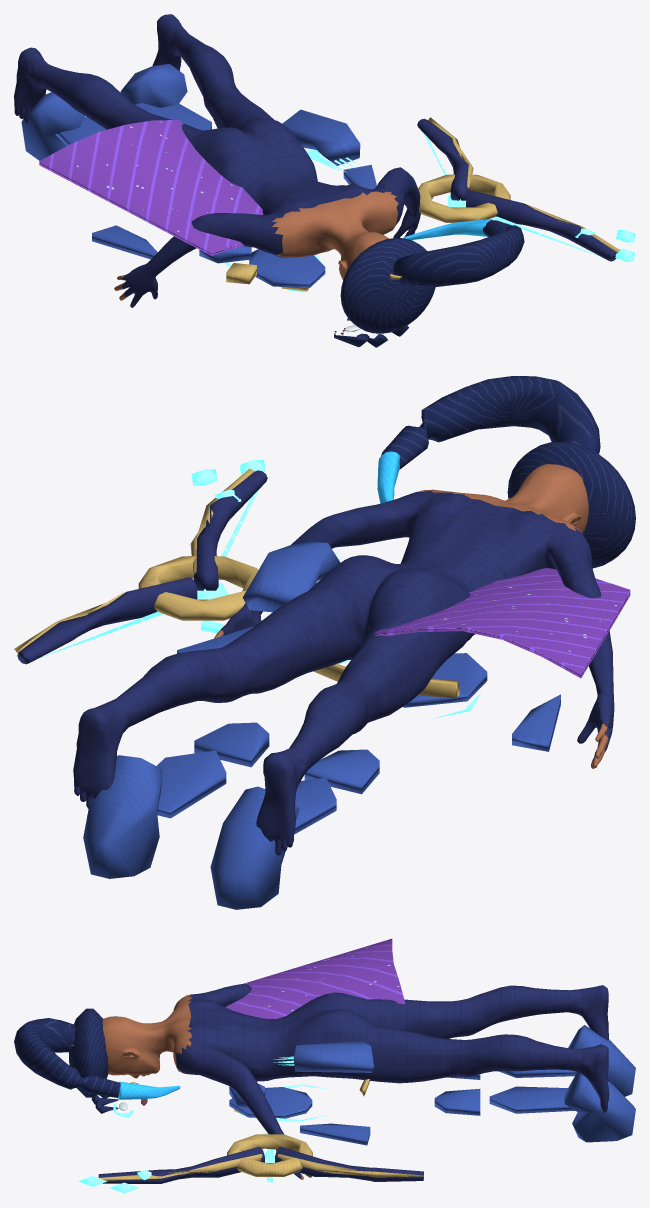
The model's file is lyra_vesper_optimized.glb.
3 views of the same model, one above another, from view 1: azimuth 30°, elevation 25°; view 2: azimuth 150°, elevation 25°; view 3: azimuth 270°, elevation 25° (orthographic). The views are drawn at different scales.
Parts seen in each view (by area): view 1: MESH_ArmorBoot_L, MESH_AuroraMantle_Left, MESH_ShinLumen_L; view 2: MESH_ArmorBoot_L, MESH_AuroraMantle_Left, MESH_ShinLumen_L; view 3: MESH_ArmorBoot_L, MESH_AuroraMantle_Left, MESH_ShinLumen_L.
Boxes of the visible parts, bbox=[...] form: MESH_ArmorBoot_L: bbox=[14, 14, 619, 347]; MESH_AuroraMantle_Left: bbox=[39, 120, 263, 255]; MESH_ShinLumen_L: bbox=[225, 134, 635, 292]; MESH_ArmorBoot_L: bbox=[14, 376, 635, 909]; MESH_AuroraMantle_Left: bbox=[375, 568, 630, 678]; MESH_ShinLumen_L: bbox=[39, 460, 480, 718]; MESH_ArmorBoot_L: bbox=[14, 983, 635, 1183]; MESH_AuroraMantle_Left: bbox=[225, 938, 404, 1018]; MESH_ShinLumen_L: bbox=[78, 1056, 424, 1193].
Size of the model in its own units: 2.89 by 0.835 by 3.97.
Materials: 3 (3 with a texture image).
